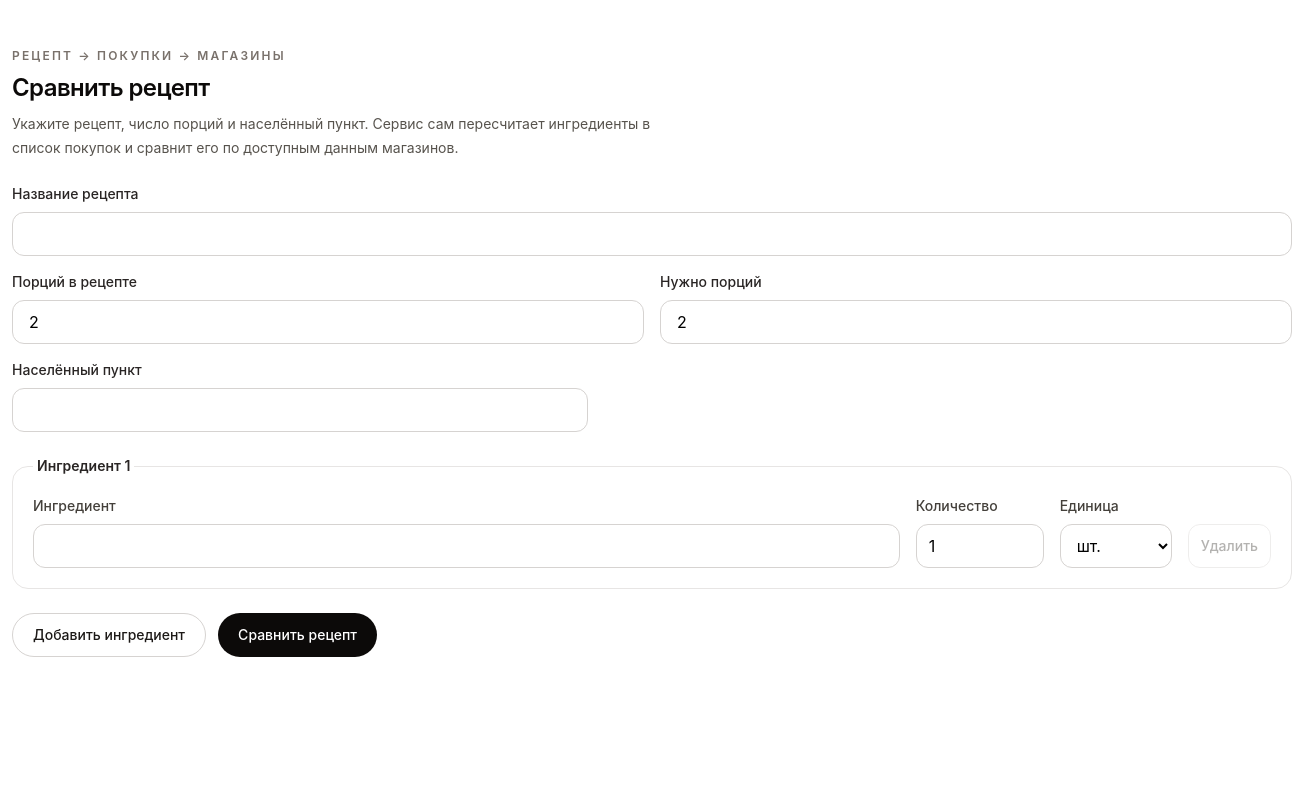
Recipe comparison form › rejects incomplete or invalid input before contacting the backend
The width and height of the screenshot is (1304, 800).
Replace the text in the number field labelled "Порций в рецепте" with "1.5" at (328, 322), box [12,300,644,344]
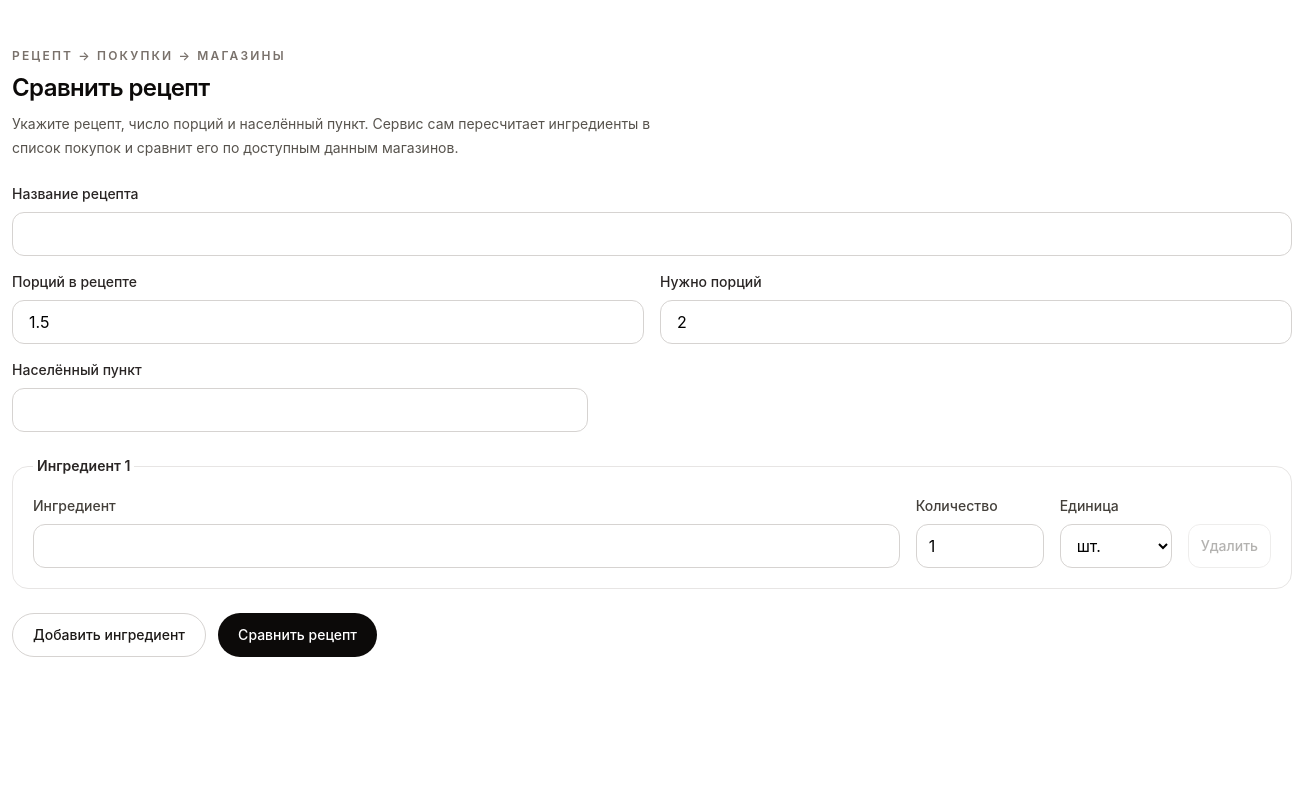
Replace the text in the number field labelled "Нужно порций" with "0" at (976, 322), box [660,300,1292,344]
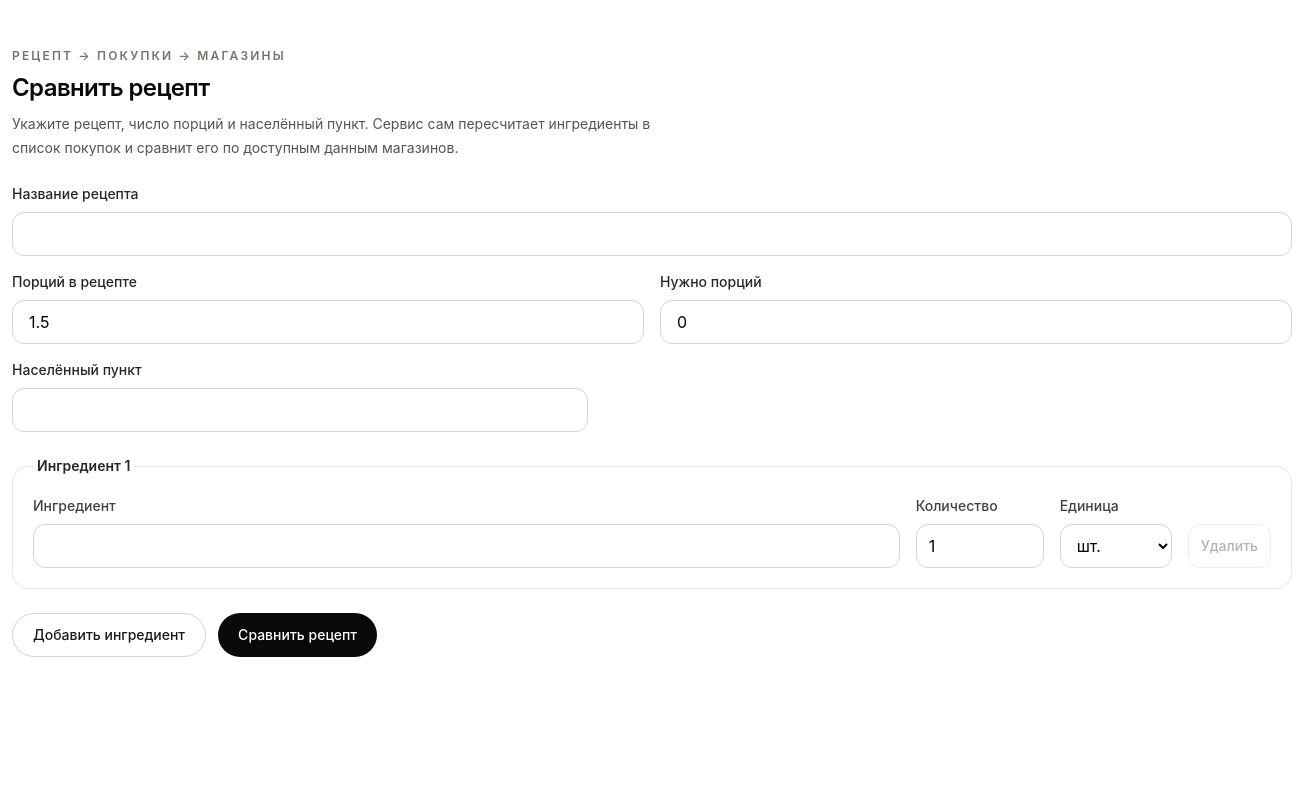
Replace the text in the number field labelled "Количество" with "0" at (980, 546), box [916,524,1044,568]
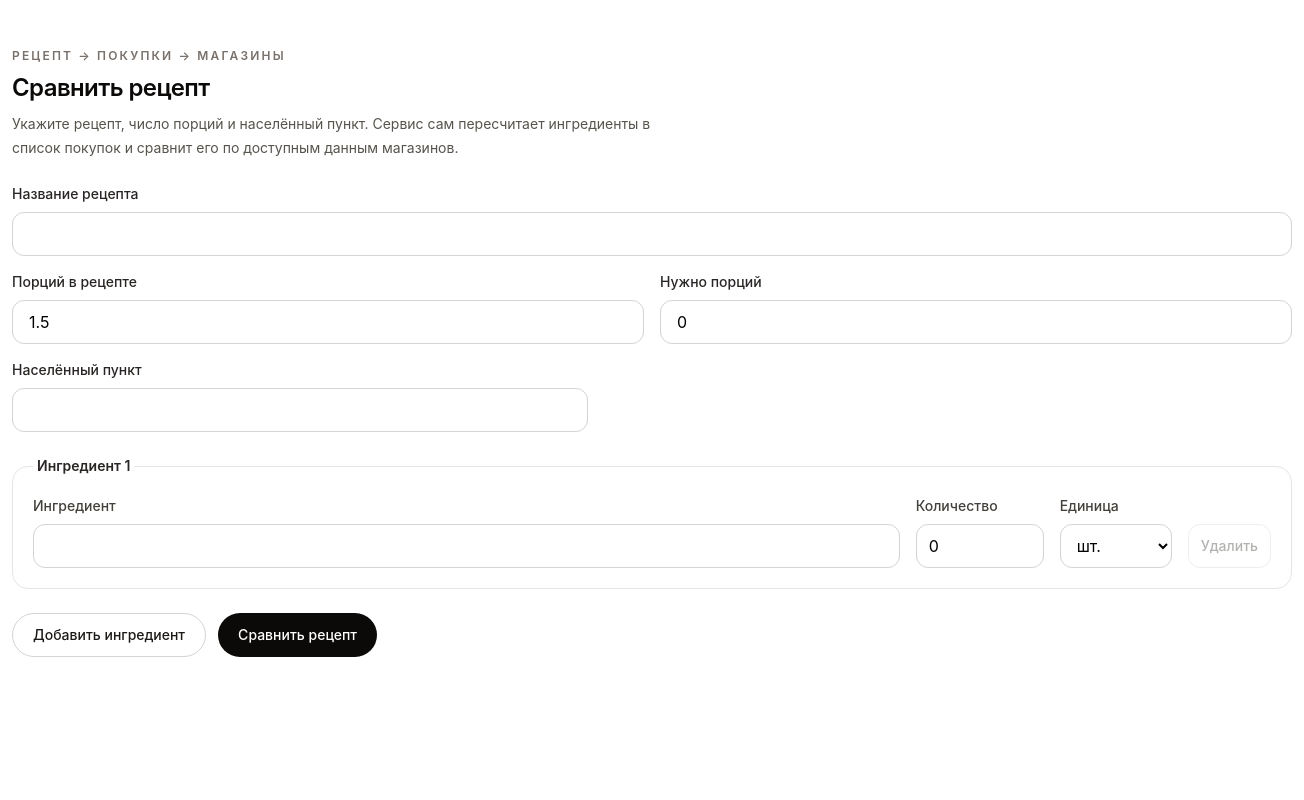
Click the button "Сравнить рецепт" at (298, 635), box [218,613,377,657]
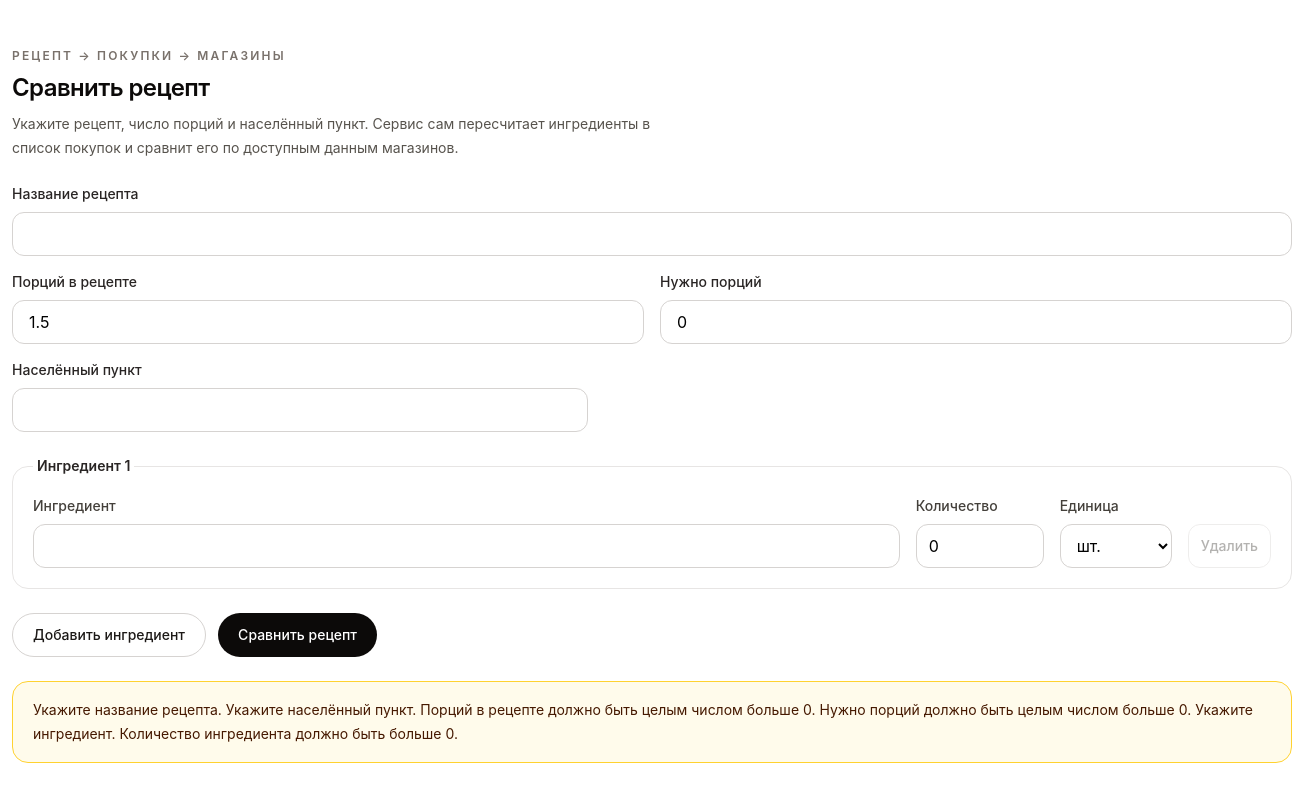
Expected: the message shows "Укажите название рецепта", [33,701,1253,742]
Expected: the message shows "Укажите населённый пункт", [33,701,1253,742]
Expected: the message shows "Порций в рецепте должно быть целым числом больше 0", [33,701,1253,742]
